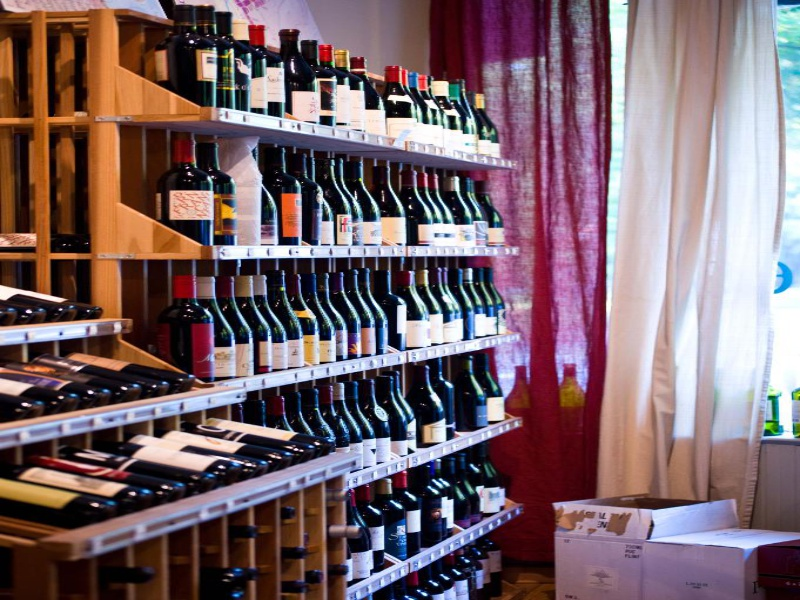wine: (143, 1, 519, 600), (1, 279, 364, 600)
